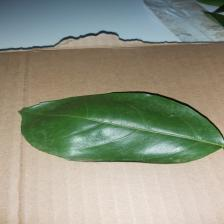healthy: (15, 99, 208, 165)
